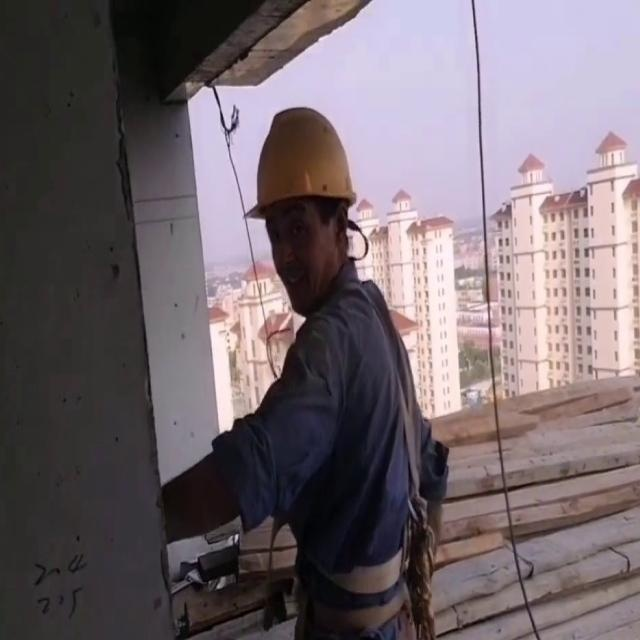Arnes_seguridad: (285, 275, 445, 602)
